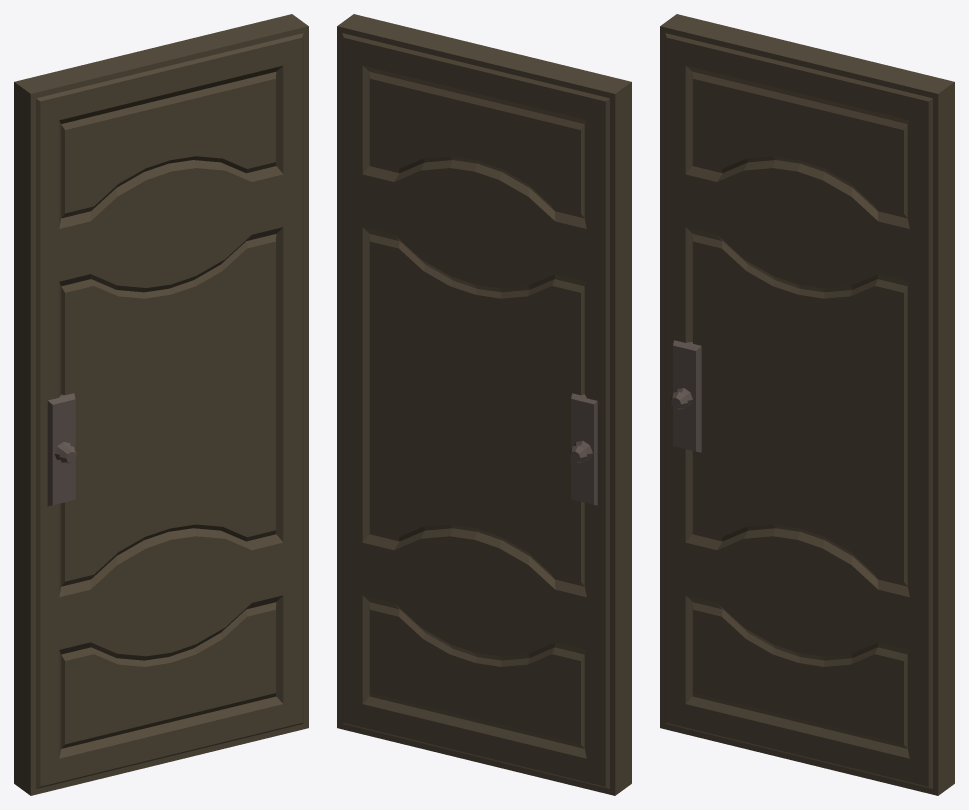
Rendered from Door_8.glb.
3 views of the same model, side by side, from view 1: azimuth 30°, elevation 25°; view 2: azimuth 150°, elevation 25°; view 3: azimuth 330°, elevation 25° (orthographic).
Visible parts, largest first — view 1: Door_8; view 2: Door_8; view 3: Door_8.
Part boxes in pixels (x1,y1,x2,y2): Door_8: [14, 14, 308, 795]; Door_8: [337, 14, 631, 795]; Door_8: [660, 14, 954, 795].
Size of the model in its own units: 0.522 by 1.26 by 0.1327.
